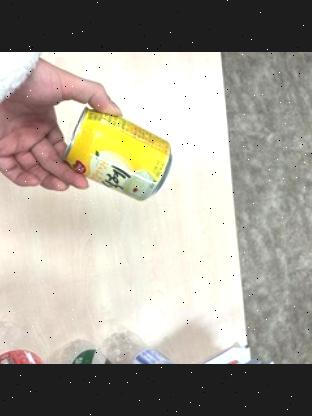Can: (58, 107, 174, 204)
